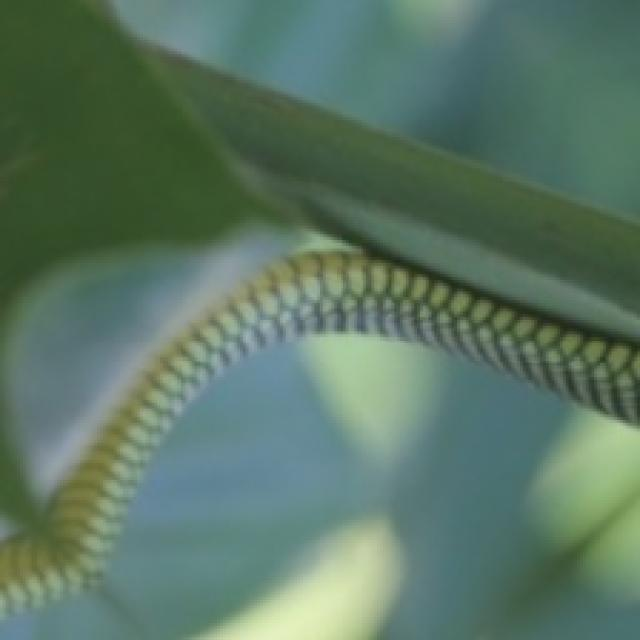paradise tree snake: (0, 251, 637, 614)
